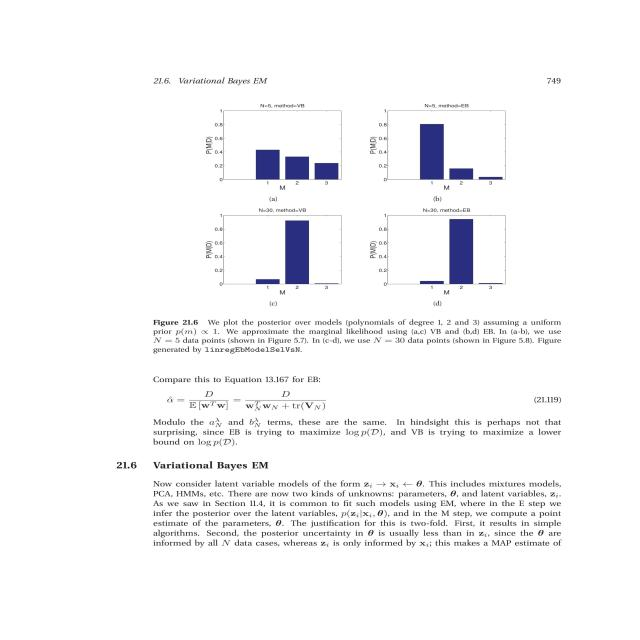diagram: (96, 83, 640, 371)
